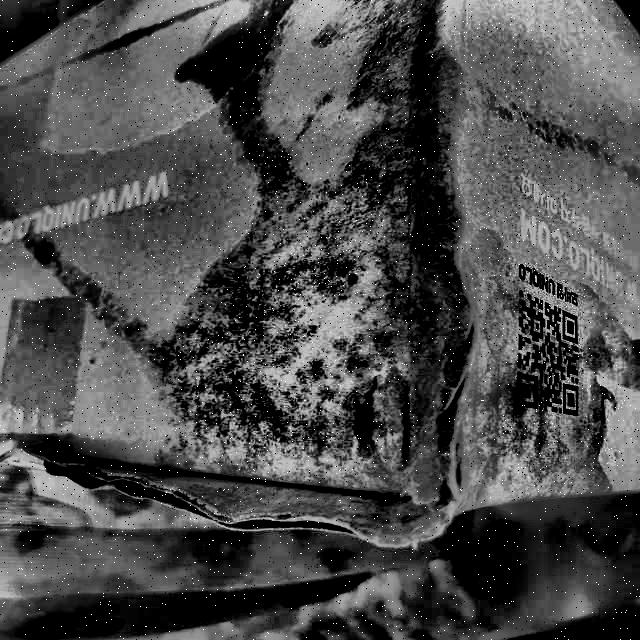box: (0, 0, 640, 555)
wet: (187, 52, 485, 532)
